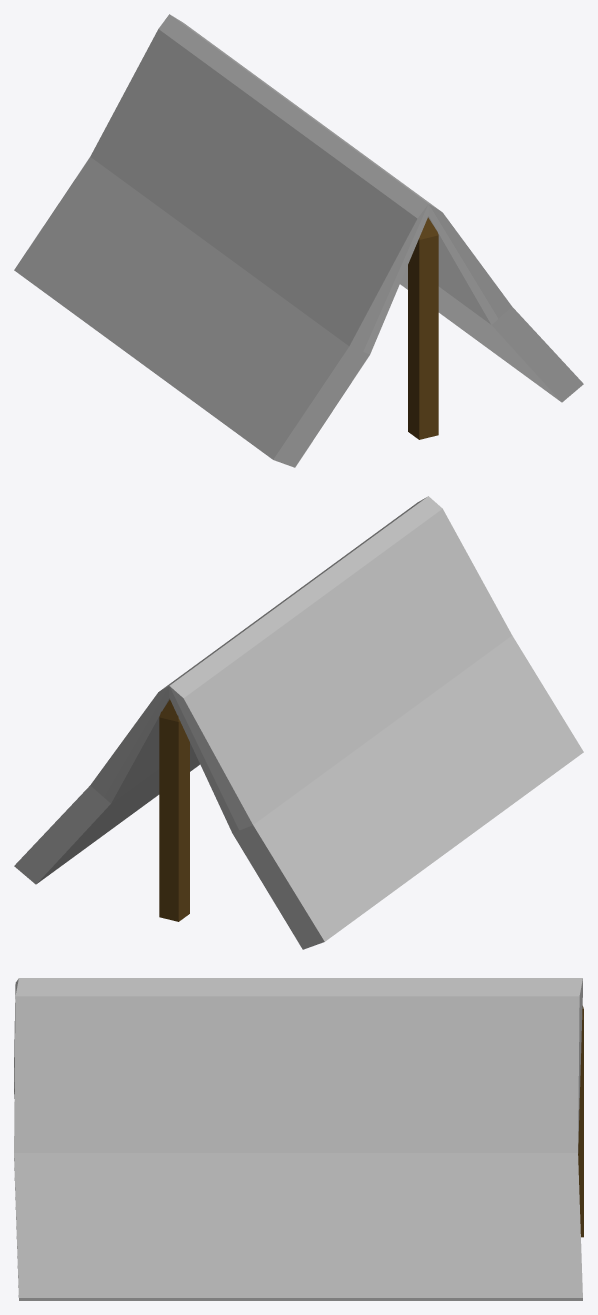
Rendered from Tent.fbx.
The picture shows the model from 3 angles, top to bottom: view 1: azimuth 30°, elevation 25°; view 2: azimuth 150°, elevation 25°; view 3: azimuth 270°, elevation 25°; orthographic projection. The views are drawn at different scales.
Parts seen in each view (by area): view 1: Cube, Cube.001; view 2: Cube, Cube.001; view 3: Cube, Cube.001.
Part boxes in pixels (x1,y1,x2,y2): Cube: [14, 14, 583, 467]; Cube.001: [408, 217, 438, 439]; Cube: [14, 496, 583, 949]; Cube.001: [159, 699, 189, 921]; Cube: [14, 978, 582, 1300]; Cube.001: [578, 1006, 583, 1237].
Size of the model in its own units: 839 by 602 by 1224.
